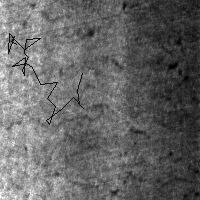crazing: (122, 41, 200, 199), (4, 83, 107, 198), (8, 33, 83, 124)
